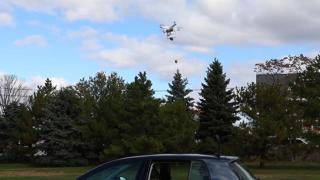UAV: (160, 22, 180, 41)
